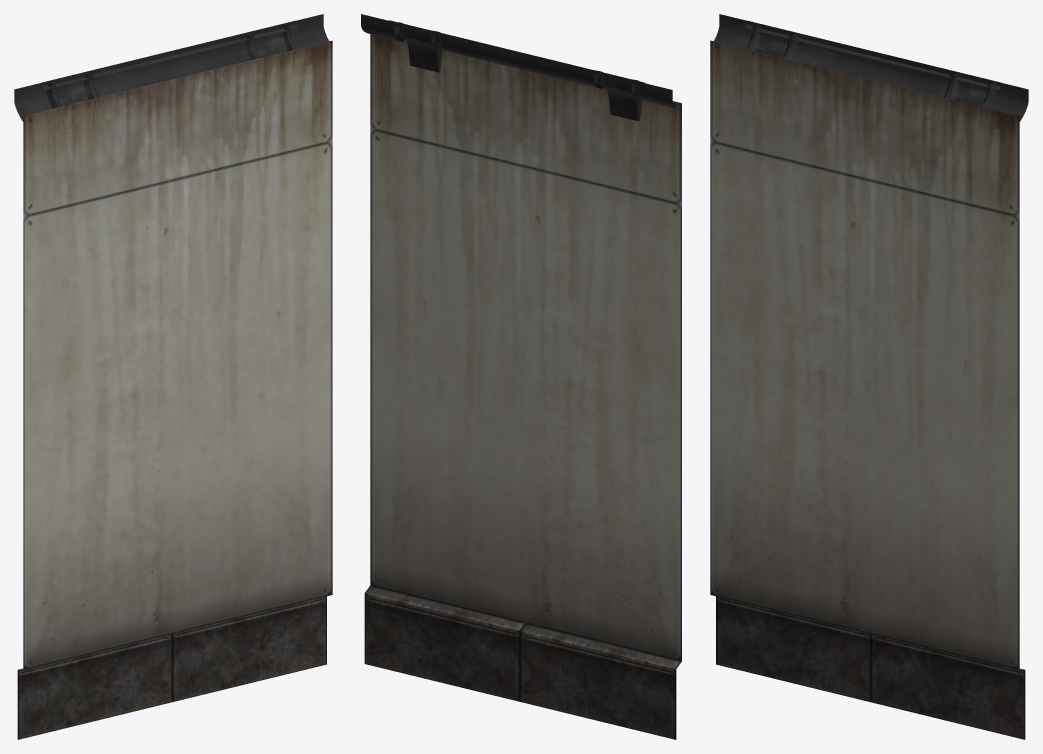
Rendered from lab_flat_short.dae.
3 renders of one model, left to right at view 1: azimuth 30°, elevation 25°; view 2: azimuth 150°, elevation 25°; view 3: azimuth 330°, elevation 25°, orthographic.
Visible parts, largest first — view 1: lab_flat_short; view 2: lab_flat_short; view 3: lab_flat_short.
Boxes of the visible parts, x1,y1,x2,y2 form: lab_flat_short: (14, 14, 332, 739); lab_flat_short: (361, 14, 681, 739); lab_flat_short: (710, 14, 1028, 739).
Bounding box in the file's own units: 2 × 4 × 0.1056.
